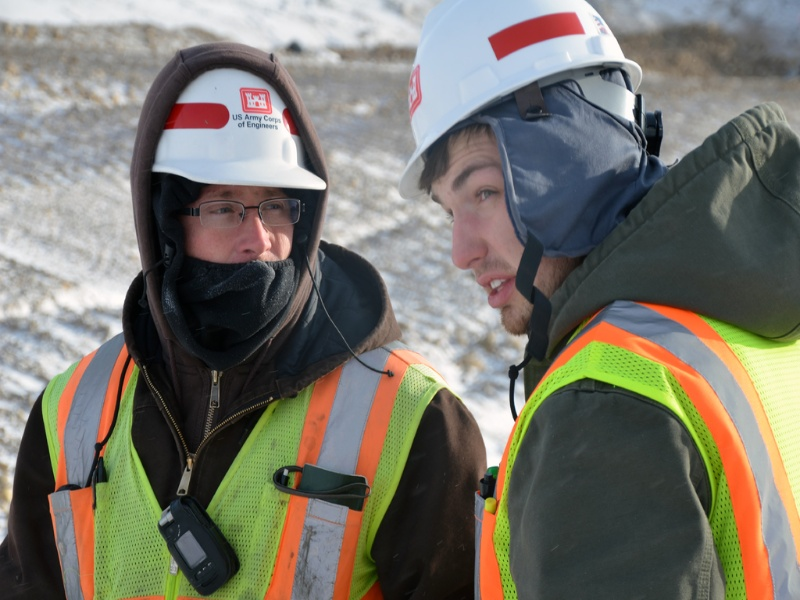Baret: (403, 1, 634, 134), (156, 68, 317, 186)
